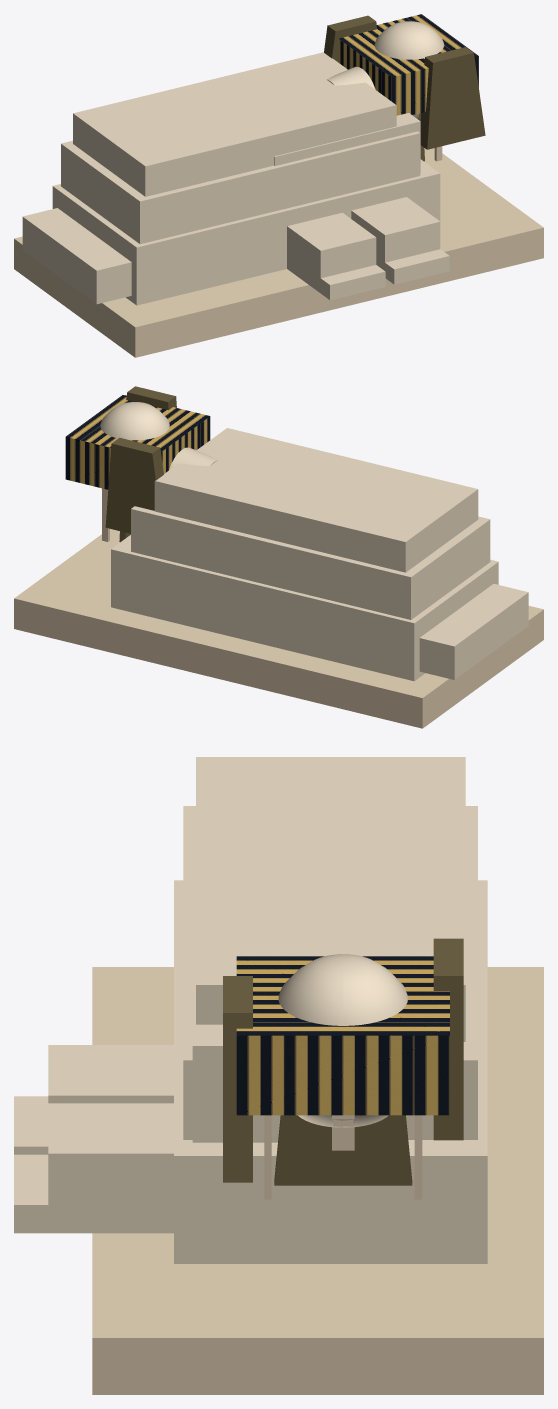
The model's file is sphinx_realish.gltf.
3 renders of one model, top to bottom at view 1: azimuth 30°, elevation 25°; view 2: azimuth 150°, elevation 25°; view 3: azimuth 270°, elevation 25°, orthographic. The views are drawn at different scales.
Bounding box in the file's own units: 720 × 326 × 422.
Materials: 3 (1 with a texture image).
